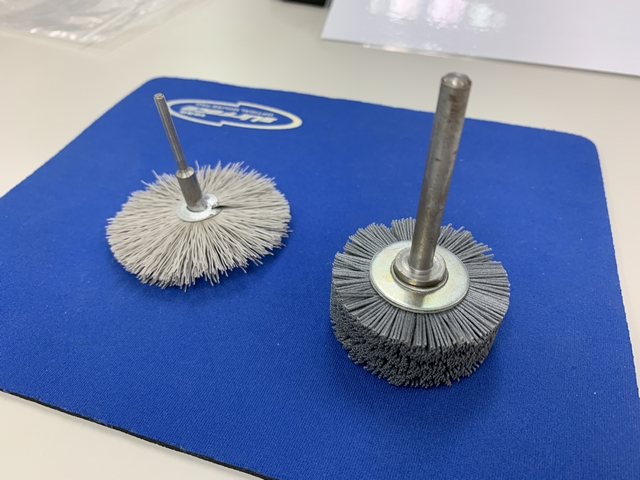TOOL: (96, 89, 296, 289)
Wheel Brush: (326, 69, 511, 392)
